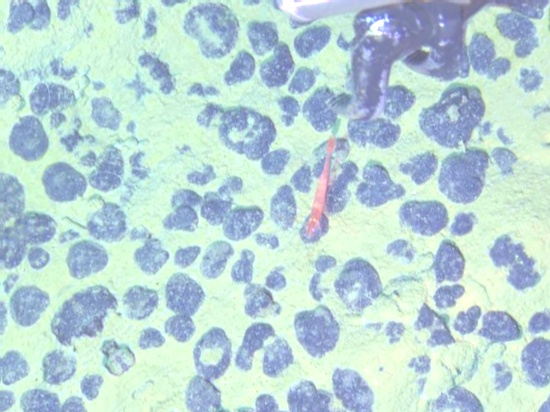halobolite: (213, 89, 283, 169), (415, 80, 491, 148), (323, 250, 390, 317), (488, 225, 550, 296), (179, 1, 244, 59), (182, 317, 239, 383), (237, 318, 293, 381), (437, 149, 495, 203), (24, 335, 76, 392), (336, 359, 388, 412), (317, 227, 368, 279), (32, 162, 83, 212), (488, 4, 536, 56), (351, 161, 400, 210), (61, 256, 108, 307), (97, 281, 159, 319), (237, 274, 283, 325), (113, 364, 160, 412), (293, 305, 337, 356), (78, 185, 121, 236), (65, 71, 106, 124), (165, 273, 208, 323), (257, 43, 307, 86), (1, 135, 40, 190), (123, 53, 177, 91), (18, 87, 63, 132), (25, 287, 66, 335), (294, 207, 343, 247), (373, 239, 417, 283), (480, 305, 525, 348), (408, 307, 455, 347), (227, 204, 264, 251), (428, 383, 486, 412), (179, 172, 228, 206), (308, 373, 354, 409), (267, 182, 298, 234), (399, 149, 442, 186), (132, 184, 178, 218), (293, 24, 336, 60), (117, 312, 163, 345), (133, 238, 170, 275), (362, 118, 402, 152), (176, 99, 222, 128), (120, 151, 163, 182), (239, 371, 279, 404), (111, 162, 154, 190), (252, 146, 295, 174), (23, 208, 59, 241), (166, 378, 200, 412), (82, 136, 116, 170), (61, 220, 93, 255), (307, 91, 336, 128), (243, 20, 280, 49), (46, 1, 86, 26), (140, 1, 179, 26), (1, 196, 19, 244), (1, 1, 34, 27), (199, 206, 225, 239), (1, 303, 20, 347), (377, 329, 409, 355), (77, 376, 112, 399), (283, 385, 312, 412), (81, 350, 107, 375), (72, 394, 96, 412), (1, 68, 11, 93)
